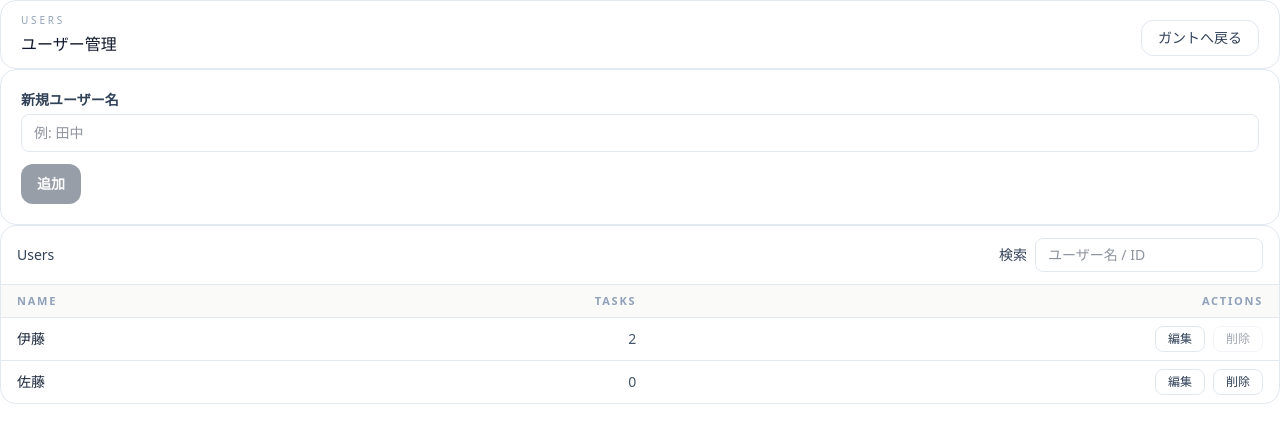
Test case: UsersAdminView.svelte › should delete removable users and keep locked delete buttons disabled
Expected: the button "削除" in the row of "伊藤" is disabled, [1213,326,1263,352]
Click the button titled "ユーザーを削除" in the row of "佐藤". click: [1238, 382]
box: [1213,369,1263,395]
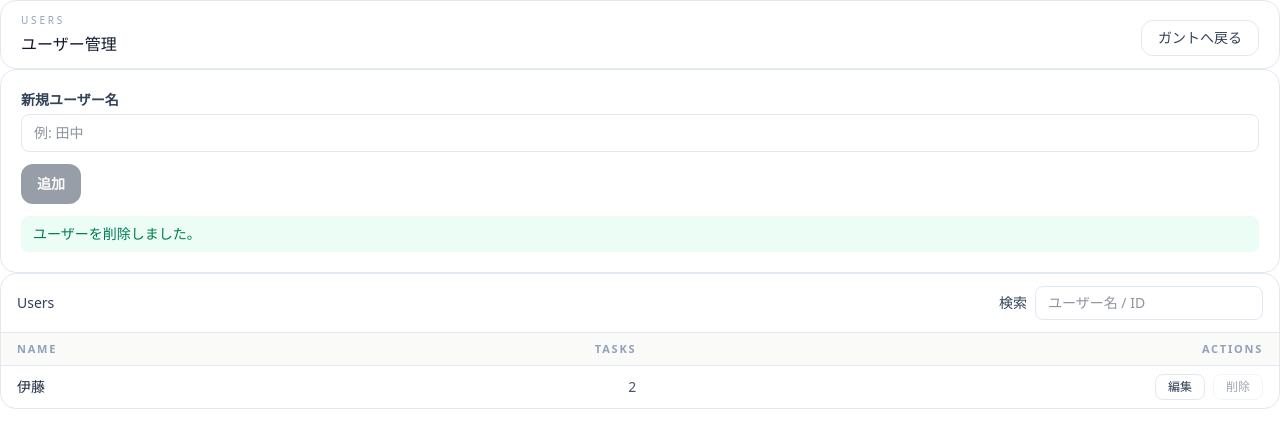
Now the text "ユーザーを削除しました。" is shown, box [21,216,1259,252]
